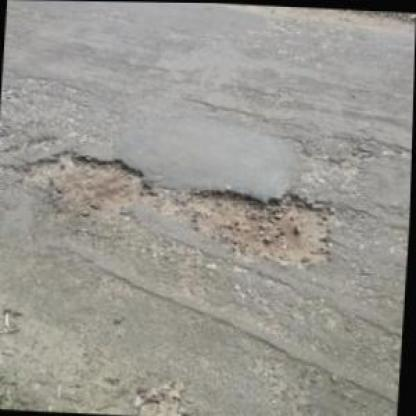pothole: (170, 184, 342, 270), (16, 147, 160, 222)
